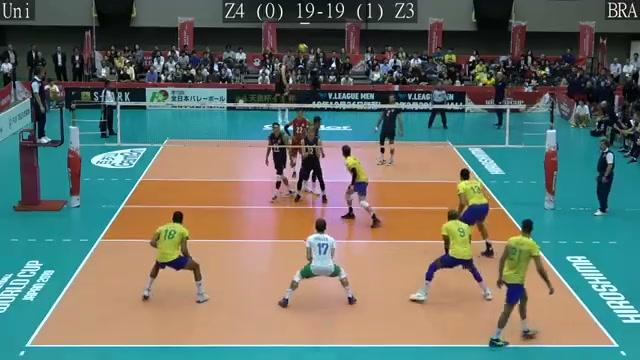ball: (296, 42, 311, 55)
